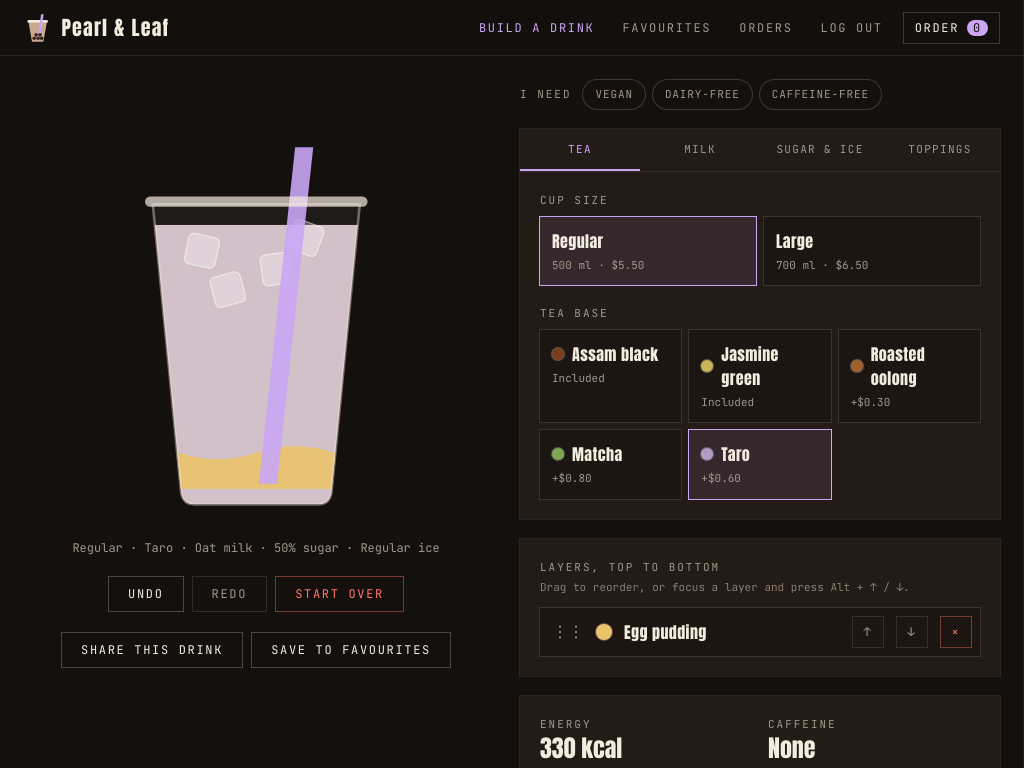
saving a favourite from the builder › saves the current drink under a chosen name
Step 1. Click the button "Save to favourites" → [351, 650], box [251,632,451,668]
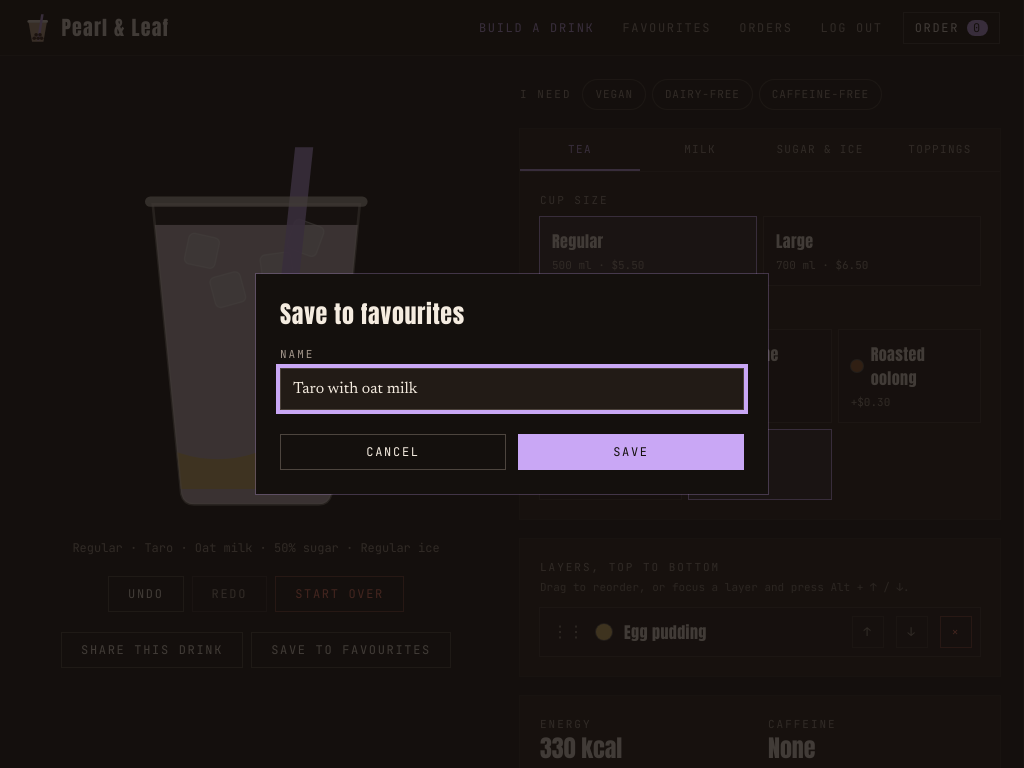
expect the field labelled "Name" holds "Taro with oat milk": met
Step 2. Replace the text in the field labelled "Name" with "Friday taro" → [512, 389], box [280,368,744,410]
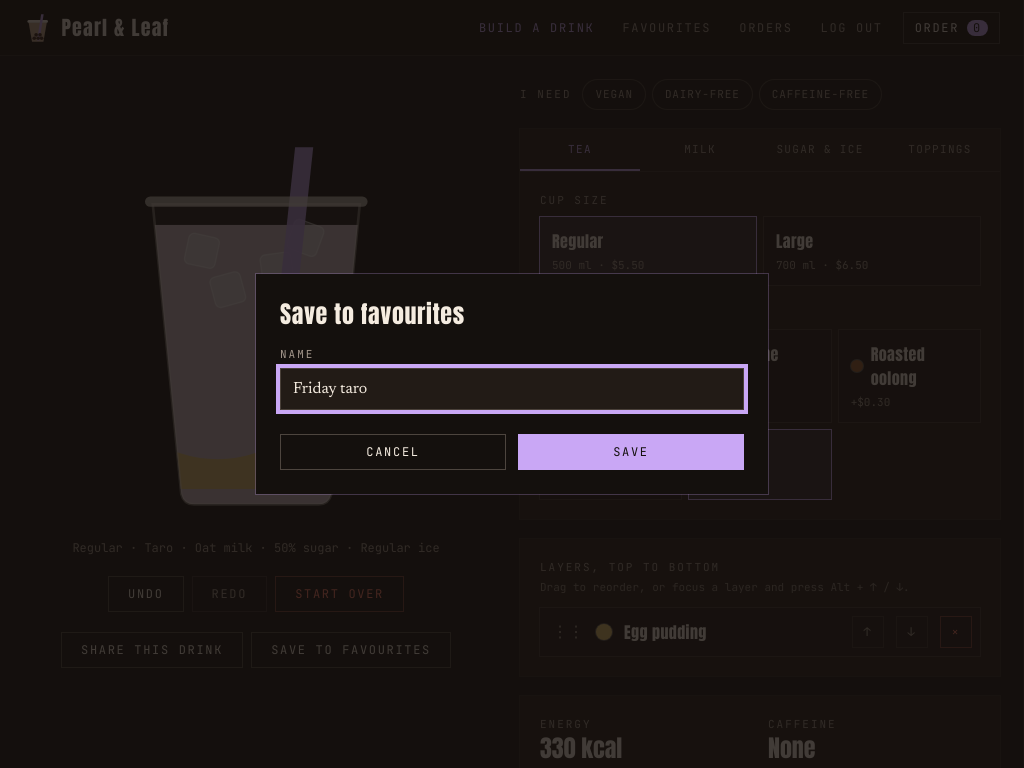
Step 3. Click the button "Save" → [631, 452], box [518,434,744,470]
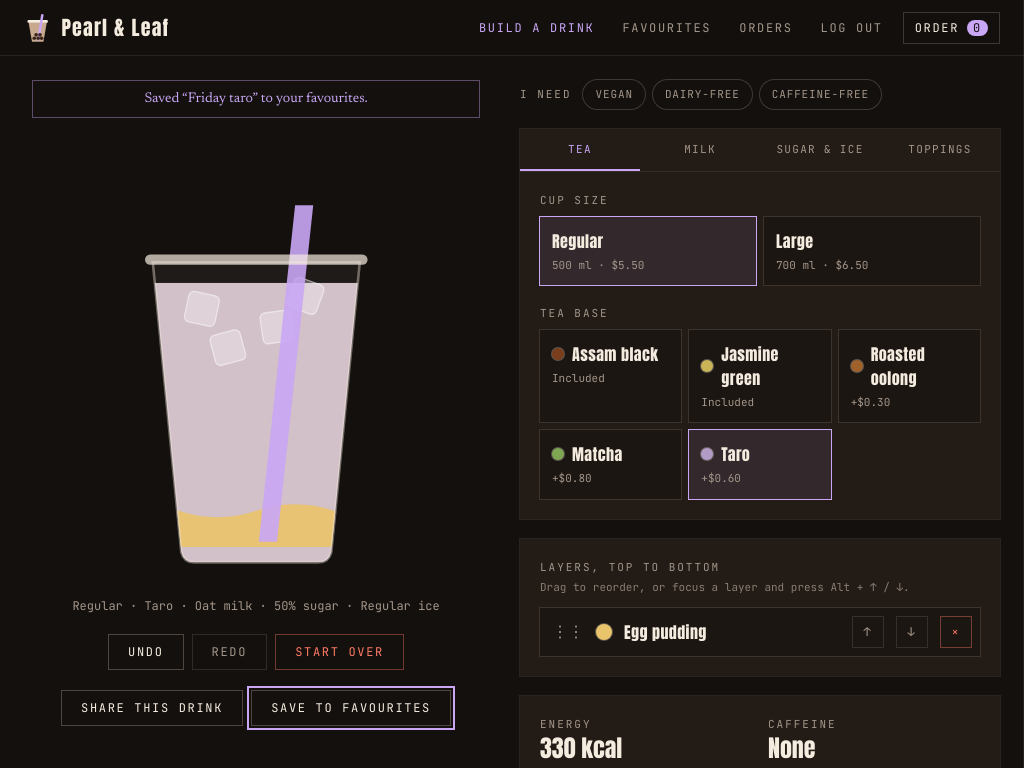
expect the text "Saved “Friday taro” to your favourites." is shown: met, box [32,80,480,118]
